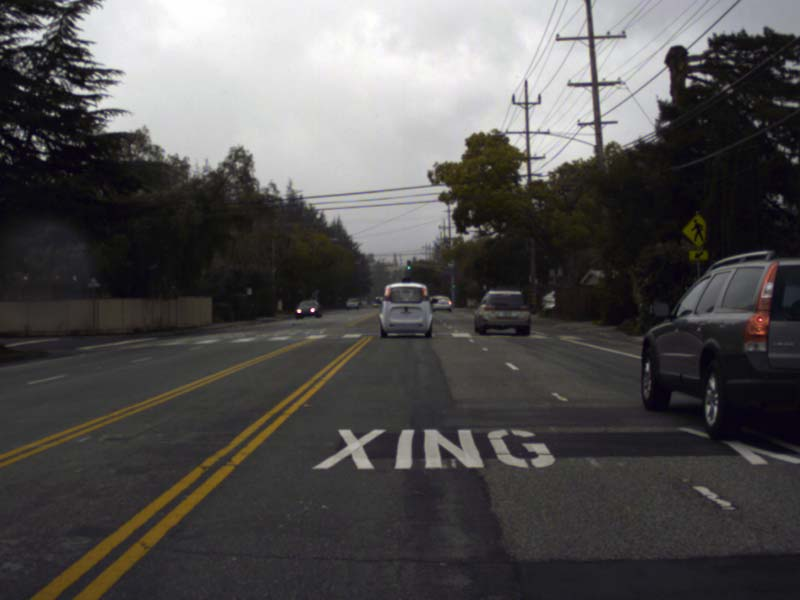Green: (406, 259, 411, 270), (452, 283, 456, 292)
